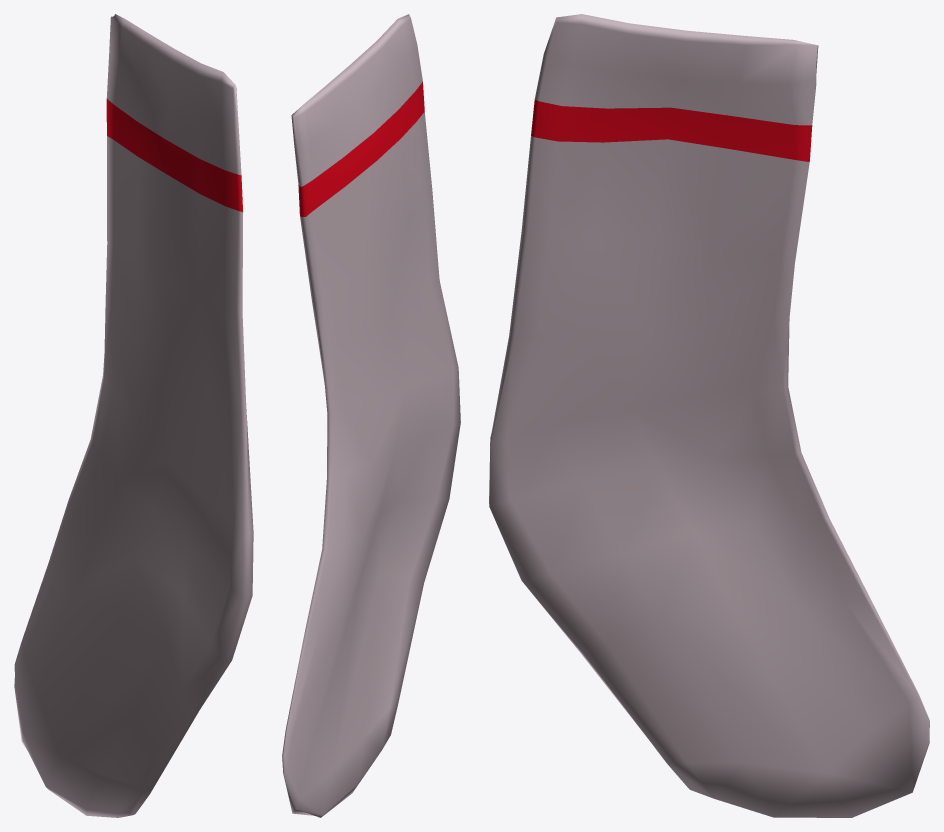
The model's file is Sock.fbx.
3 views of the same model, side by side, from view 1: azimuth 30°, elevation 25°; view 2: azimuth 150°, elevation 25°; view 3: azimuth 270°, elevation 25° (orthographic). The views are drawn at different scales.
Visible parts, largest first — view 1: polySurface42; view 2: polySurface42; view 3: polySurface42.
Boxes of the visible parts, x1,y1,x2,y2 form: polySurface42: (14,14,253,817); polySurface42: (282,14,460,817); polySurface42: (489,14,929,817).
Size of the model in its own units: 4.83 by 70 by 33.88.
